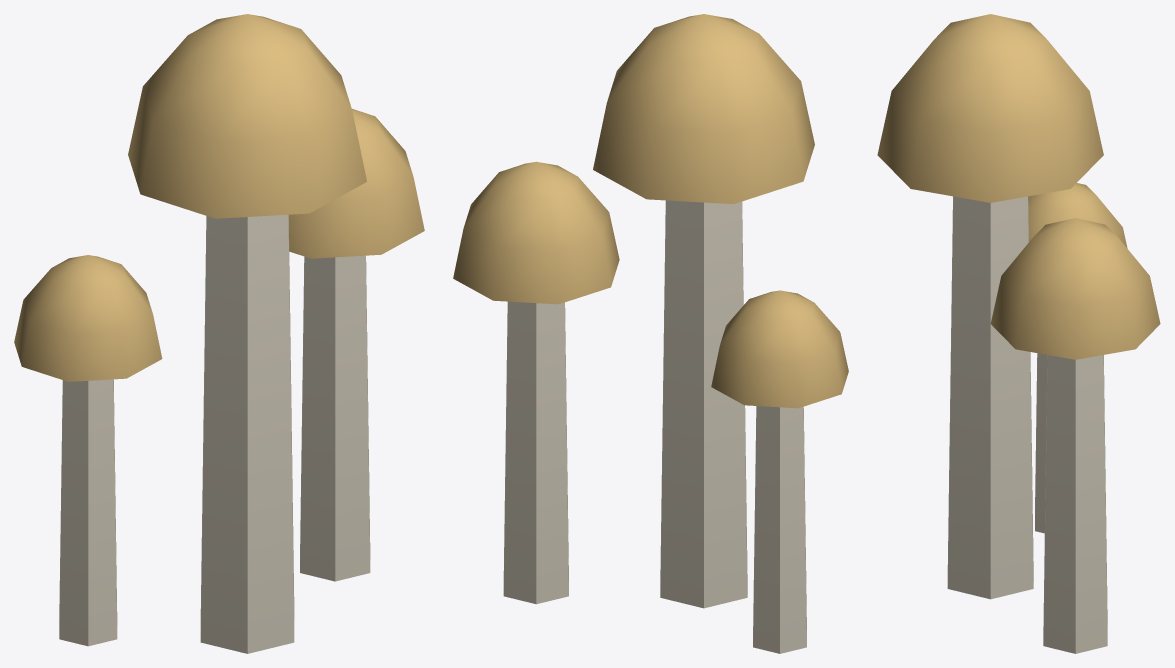
The model's file is mushroom_skinny.glb.
3 views of the same model, side by side, from view 1: azimuth 30°, elevation 25°; view 2: azimuth 150°, elevation 25°; view 3: azimuth 270°, elevation 25° (orthographic). The views are drawn at different scales.
Parts seen in each view (by area): view 1: mushroom_skinny; view 2: mushroom_skinny; view 3: mushroom_skinny.
Part boxes in pixels (x1,y1,x2,y2): mushroom_skinny: [14, 14, 424, 653]; mushroom_skinny: [453, 14, 848, 653]; mushroom_skinny: [877, 14, 1160, 653].
Bounding box in the file's own units: 0.0599 × 0.09 × 0.04.
